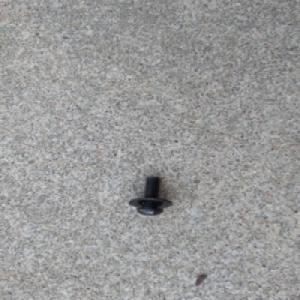BoltWasher: (126, 175, 174, 217)
